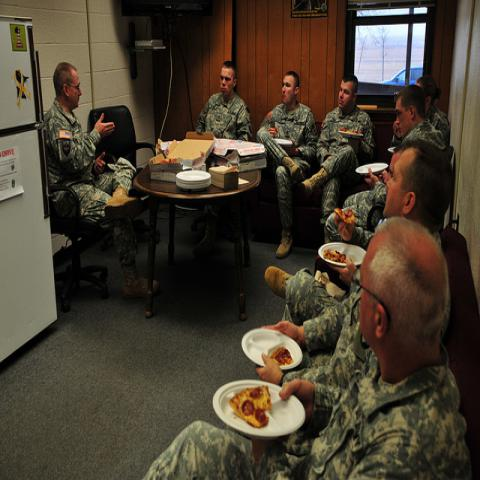car: (380, 68, 422, 87)
